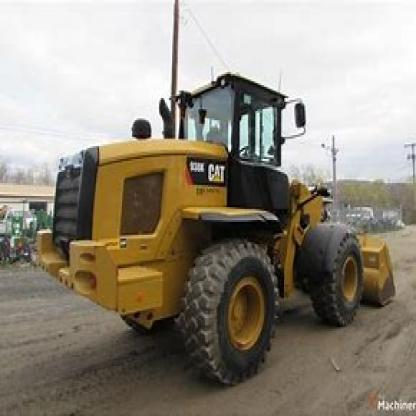bull_dozer/loader/grader: (19, 67, 402, 390)
